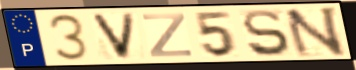3: (47, 12, 91, 63)
5: (190, 9, 240, 59)
N: (282, 5, 348, 59)
S: (240, 8, 293, 58)
V: (88, 11, 138, 61)
Z: (141, 12, 195, 59)
